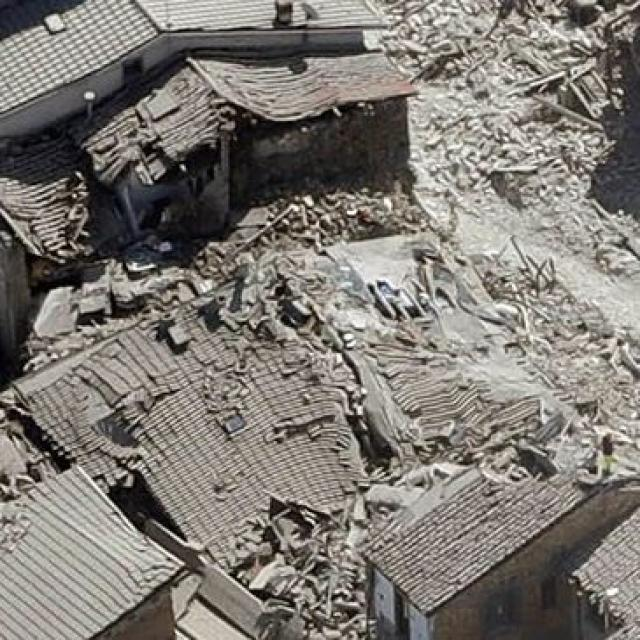collapsed_building: (2, 268, 617, 638), (0, 1, 438, 254)
